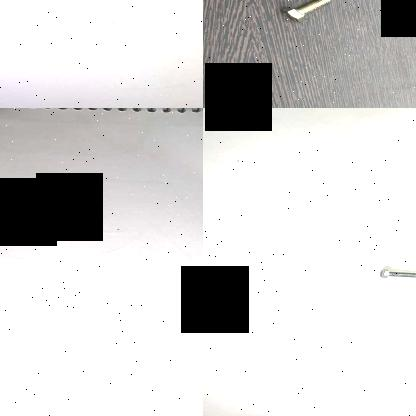Bolts: (277, 0, 333, 24), (374, 266, 416, 282)
